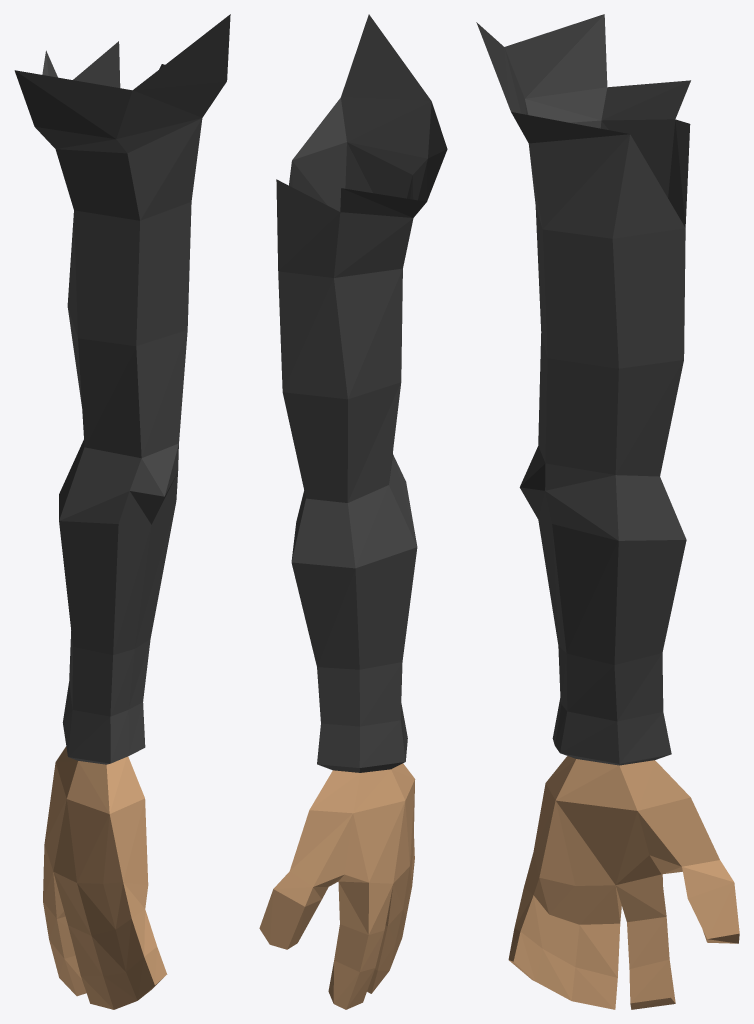
Rendered from Son_01_03_B_ArmL.obj.
3 views of the same model, side by side, from view 1: azimuth 30°, elevation 25°; view 2: azimuth 150°, elevation 25°; view 3: azimuth 270°, elevation 25° (orthographic). The views are drawn at different scales.
Visible parts, largest first — view 1: Son_01_03_B_ArmL; view 2: Son_01_03_B_ArmL; view 3: Son_01_03_B_ArmL.
Boxes of the visible parts, left/top/right/bottom form: Son_01_03_B_ArmL: left=14, top=14, right=230, bottom=1009; Son_01_03_B_ArmL: left=259, top=14, right=447, bottom=1009; Son_01_03_B_ArmL: left=476, top=14, right=739, bottom=1009.
Size of the model in its own units: 0.1573 by 0.9166 by 0.2143.
1 material, 1 textured.
